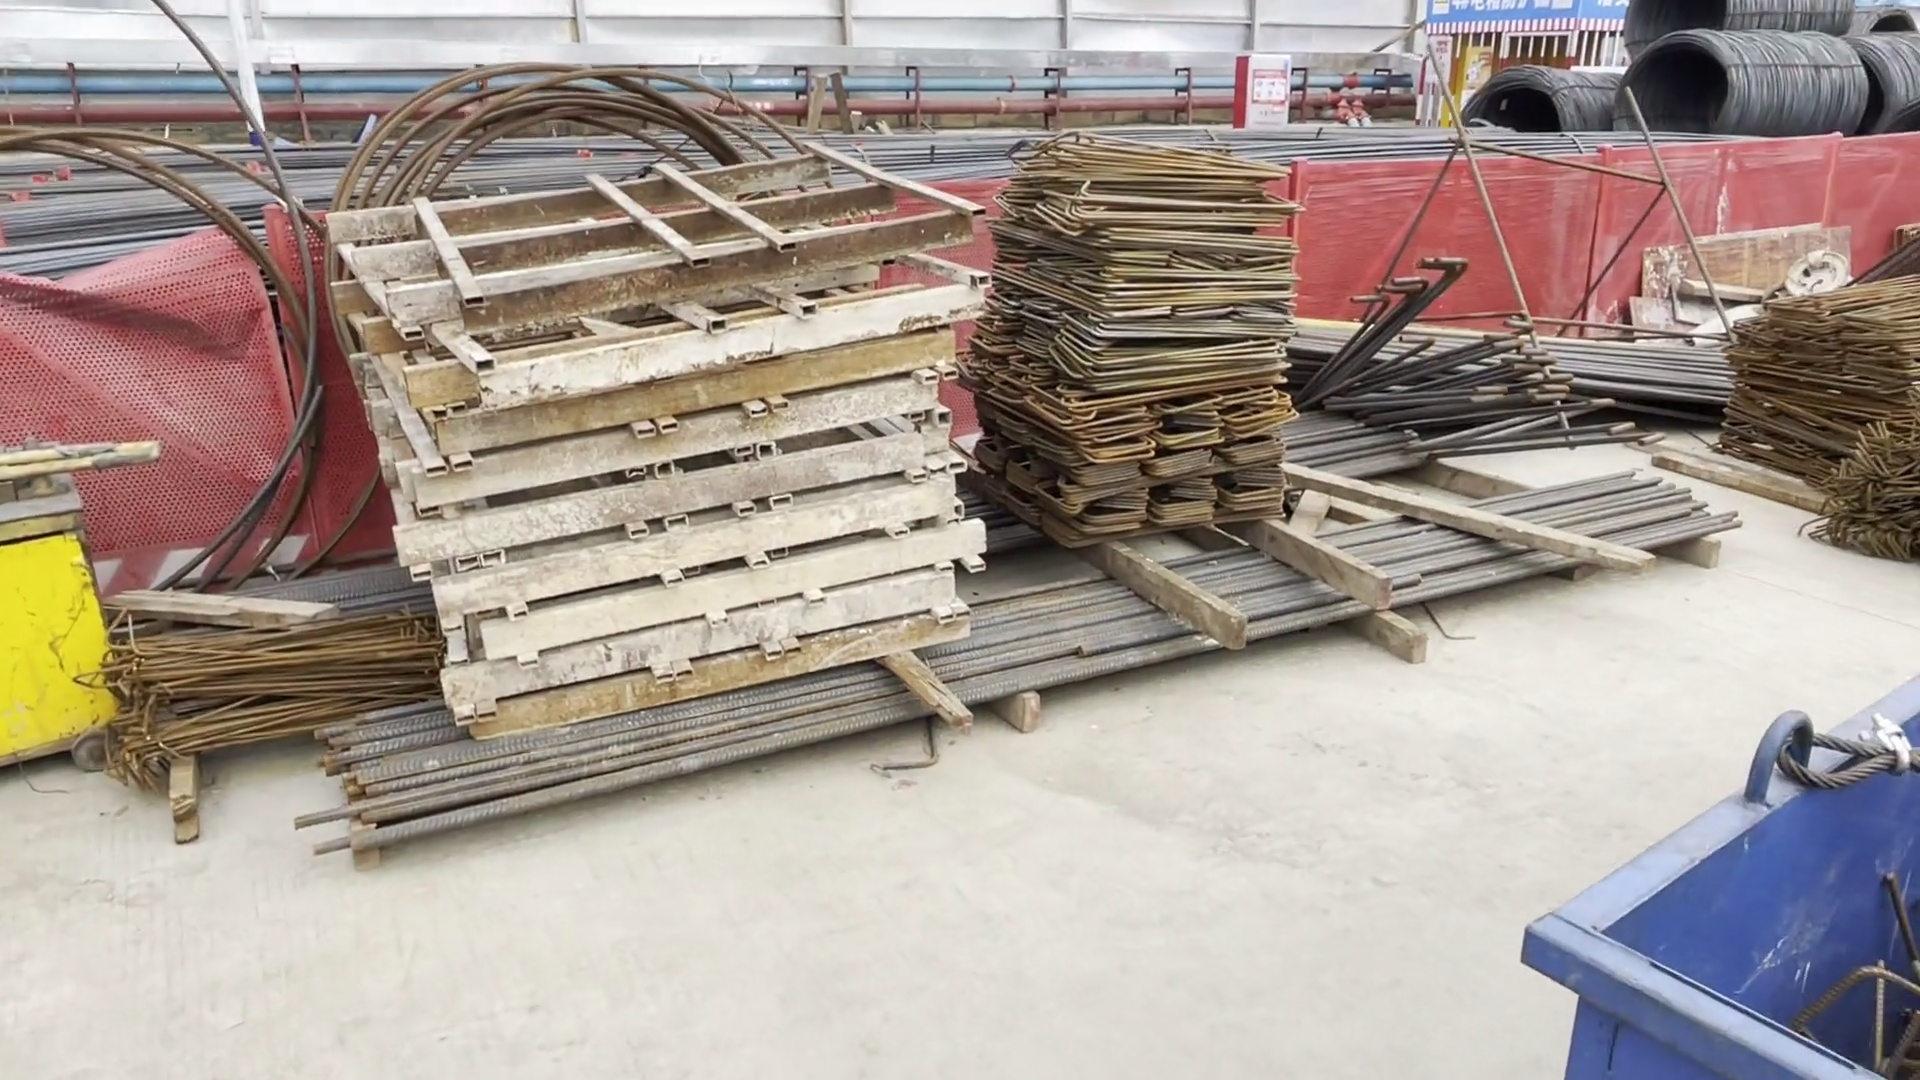hopper: (1530, 721, 1920, 1080)
rebar: (294, 487, 1738, 855)
